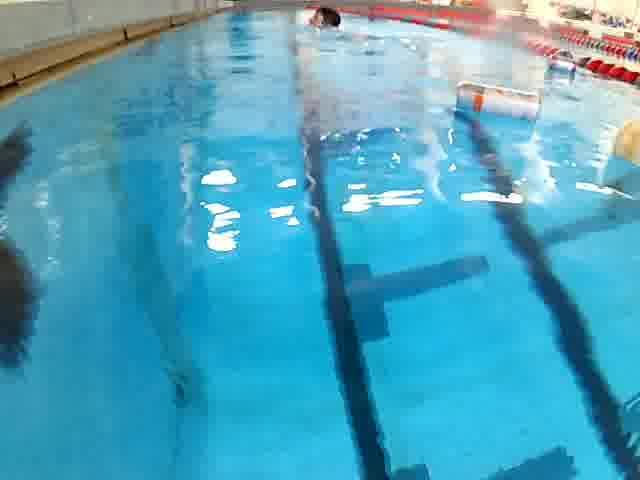Bottle: (600, 113, 640, 173)
Can: (449, 78, 546, 132), (539, 57, 583, 80)
